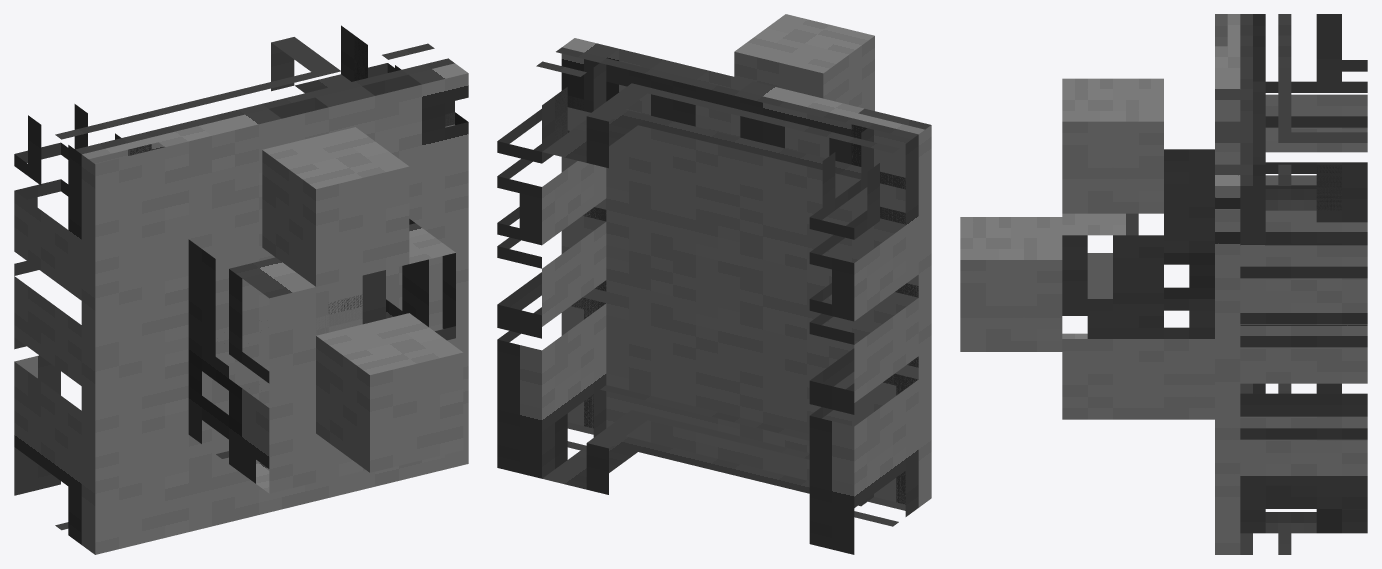
File: liquid_hopper.obj
The picture shows the model from 3 angles, left to right: view 1: azimuth 30°, elevation 25°; view 2: azimuth 150°, elevation 25°; view 3: azimuth 270°, elevation 25°; orthographic projection. The views are drawn at different scales.
Visible parts, largest first — view 1: Funnel, Funnel2, Wall1, InserterSide, InserterBottom, Wall3, Wall2; view 2: Funnel, Wall1, Wall2, Wall3, Wall4, InserterSide; view 3: Wall2, Funnel2, Funnel, InserterBottom, InserterSide, Wall1, Wall3, Wall4.
Boxes of the visible parts, x1,y1,x2,y2 form: Funnel: [81, 63, 468, 554]; Funnel2: [188, 219, 455, 493]; Wall1: [14, 115, 127, 544]; InserterSide: [262, 127, 409, 286]; InserterBottom: [316, 313, 463, 472]; Wall3: [74, 25, 407, 155]; Wall2: [354, 35, 454, 126]; Funnel: [561, 38, 931, 507]; Wall1: [809, 123, 918, 554]; Wall2: [497, 47, 606, 478]; Wall3: [542, 58, 873, 207]; Wall4: [542, 385, 873, 506]; InserterSide: [734, 14, 874, 110]; Wall2: [1240, 164, 1367, 554]; Funnel2: [1062, 149, 1214, 419]; Funnel: [1215, 14, 1240, 554]; InserterBottom: [960, 217, 1062, 351]; InserterSide: [1062, 78, 1163, 213]; Wall1: [1240, 14, 1367, 325]; Wall3: [1240, 35, 1367, 210]; Wall4: [1240, 383, 1367, 533].
Bounding box in the file's own units: 1 × 1 × 1.
